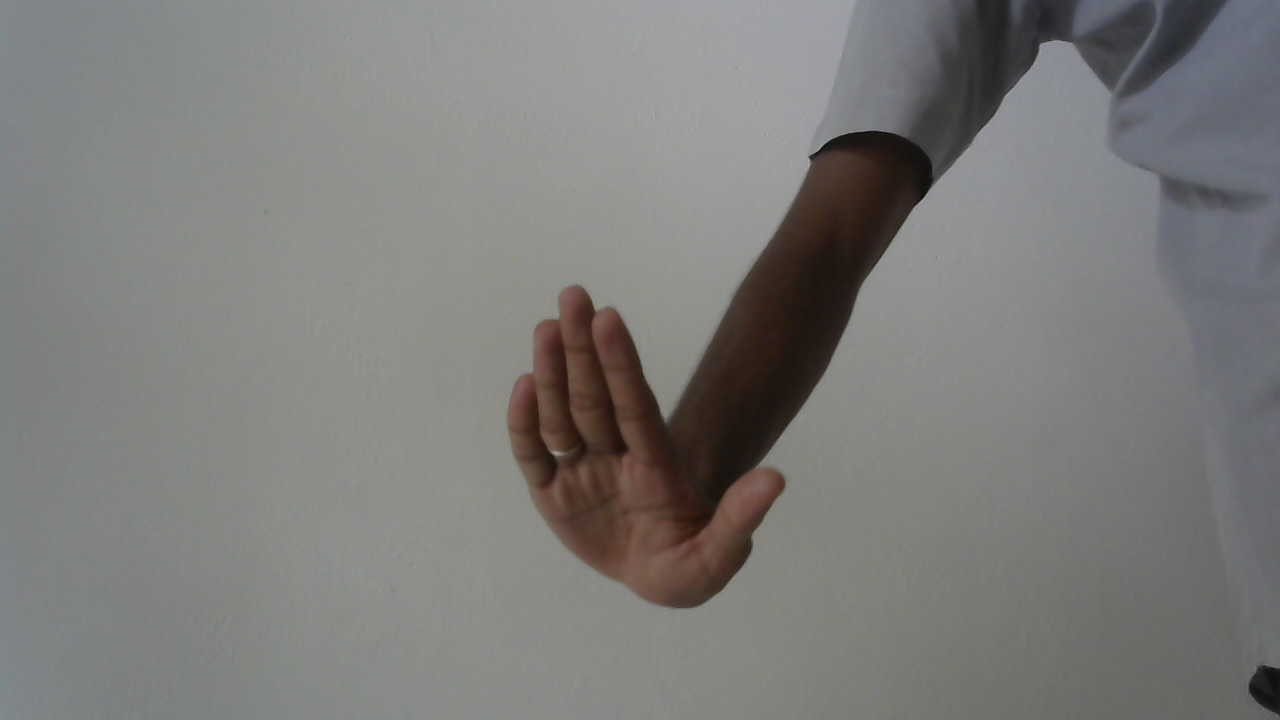hello: (499, 279, 796, 618)
